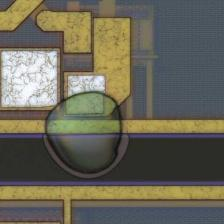COATING BAD: (47, 91, 131, 175)
